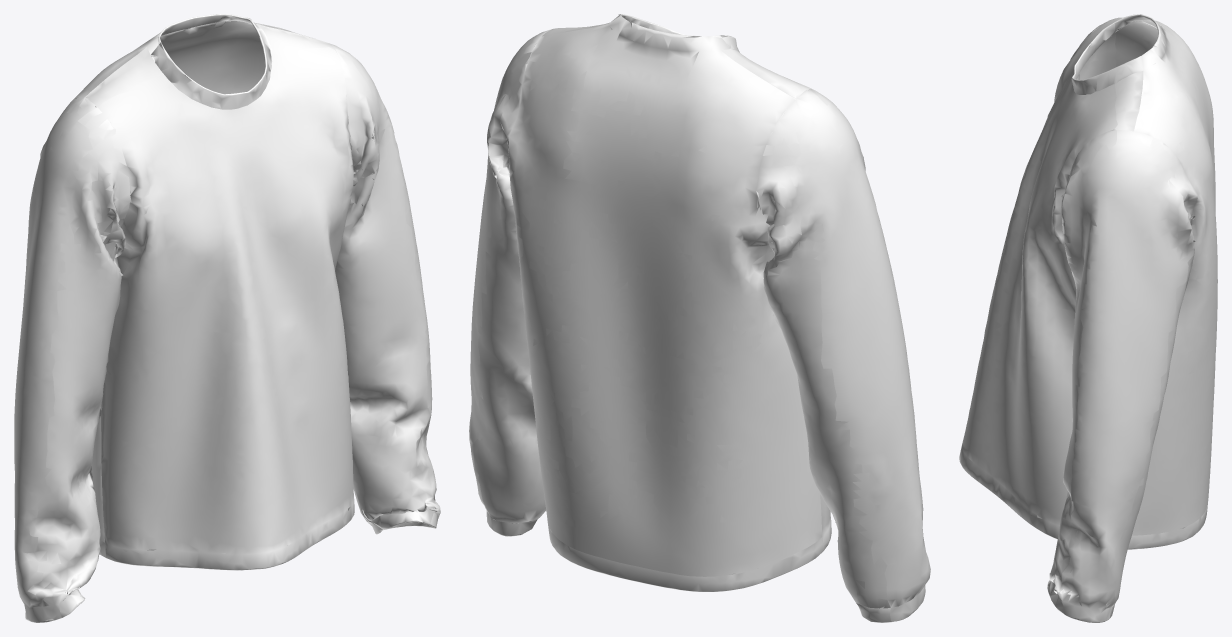
Rendered from manga_larga.glb.
3 renders of one model, left to right at view 1: azimuth 30°, elevation 25°; view 2: azimuth 150°, elevation 25°; view 3: azimuth 270°, elevation 25°, orthographic. The views are drawn at different scales.
Parts seen in each view (by area): view 1: manga_larga; view 2: manga_larga; view 3: manga_larga.
Boxes of the visible parts, left/top/right/bottom form: manga_larga: left=14, top=14, right=440, bottom=622; manga_larga: left=469, top=14, right=930, bottom=622; manga_larga: left=959, top=14, right=1217, bottom=622.
Size of the model in its own units: 0.6193 by 0.7567 by 0.351.
Materials: 1 (1 with a texture image).
